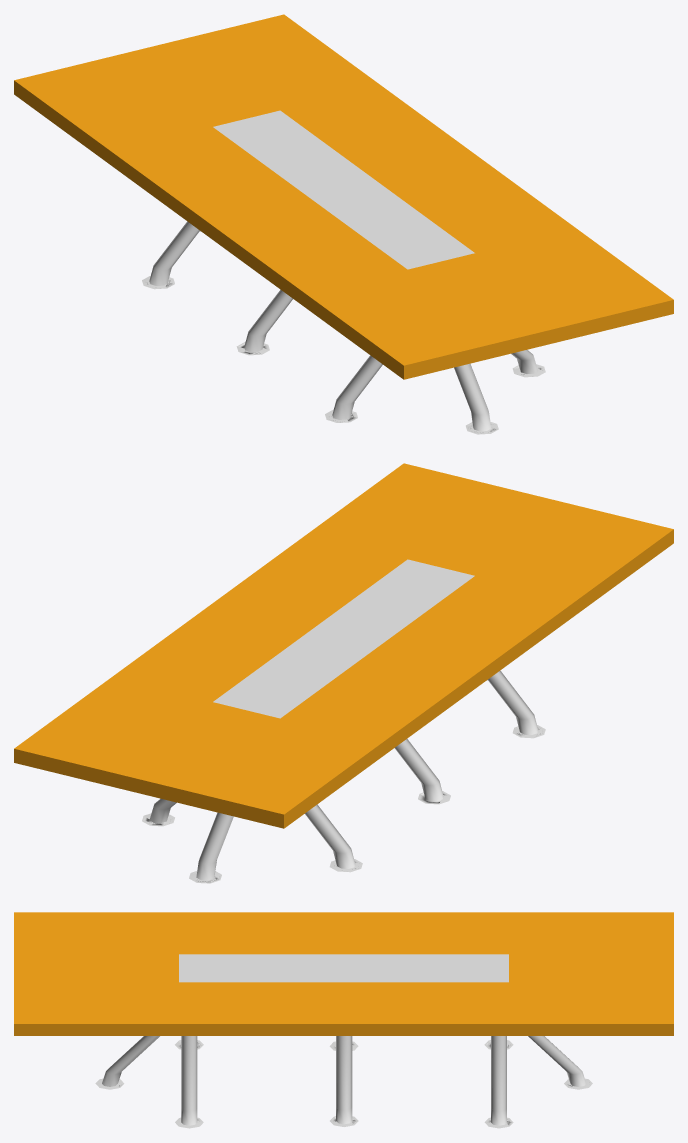
The model's file is meja rapat.fbx.
3 renders of one model, top to bottom at view 1: azimuth 30°, elevation 25°; view 2: azimuth 150°, elevation 25°; view 3: azimuth 270°, elevation 25°, orthographic. The views are drawn at different scales.
Parts seen in each view (by area): view 1: Cylinder.001; view 2: Cylinder.001; view 3: Cylinder.001.
Boxes of the visible parts, x1,y1,x2,y2 form: Cylinder.001: (14, 14, 673, 434); Cylinder.001: (14, 463, 673, 883); Cylinder.001: (14, 912, 673, 1128).
Bounding box in the file's own units: 200 × 96.43 × 500.
